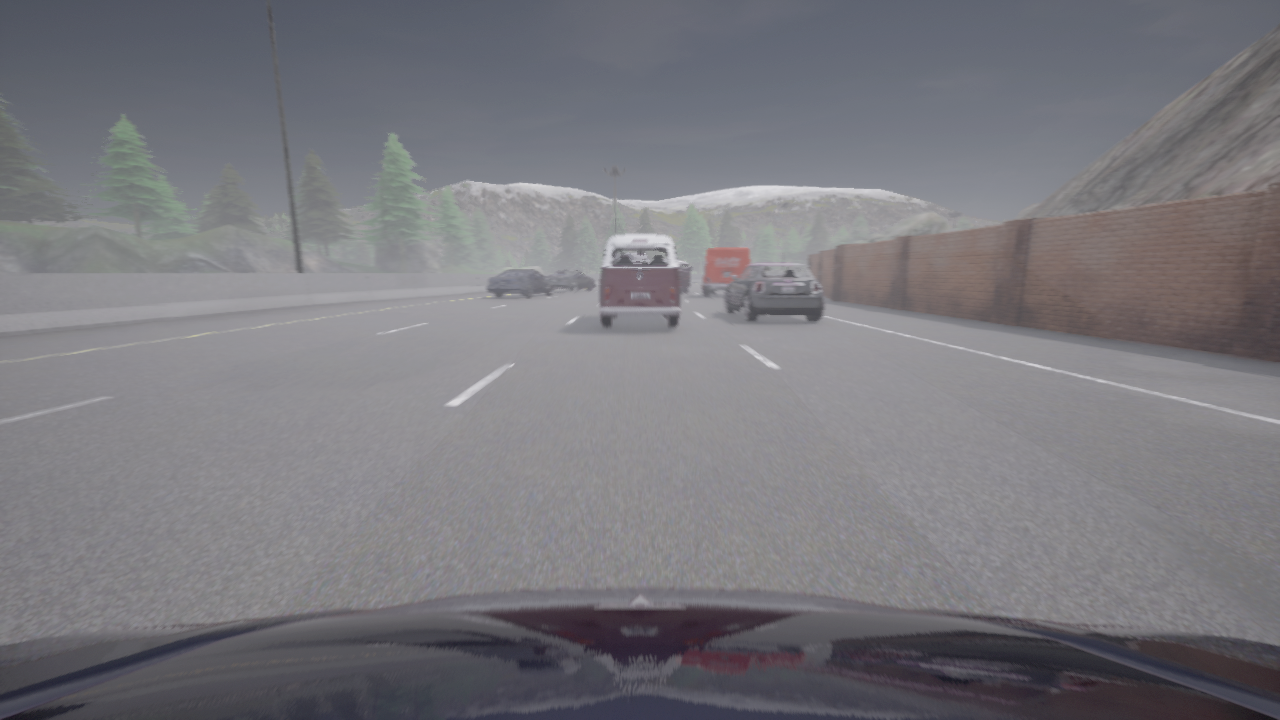cyclist: (0, 588, 1279, 719), (599, 234, 680, 327), (725, 263, 823, 322), (702, 248, 750, 296), (487, 270, 555, 297), (545, 271, 594, 291), (678, 260, 691, 293), (724, 289, 725, 290)
